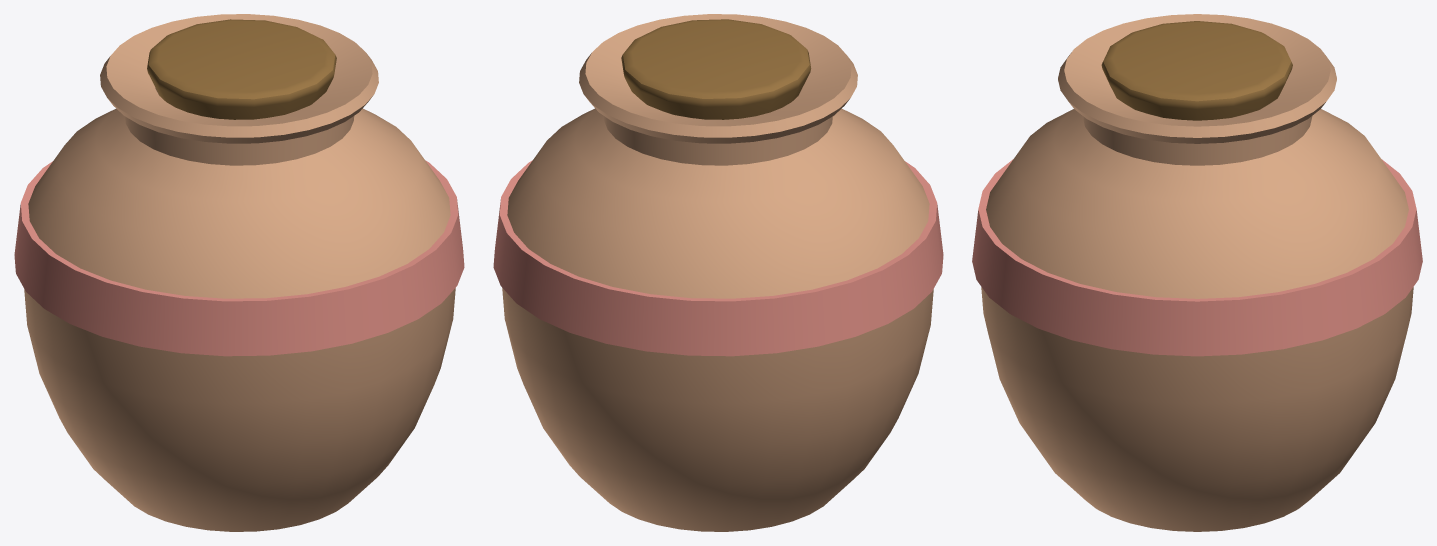
Rendered from Vaso.fbx.
3 views of the same model, side by side, from view 1: azimuth 30°, elevation 25°; view 2: azimuth 150°, elevation 25°; view 3: azimuth 270°, elevation 25° (orthographic).
Visible parts, largest first — view 1: 01Vaso.003, Cork; view 2: 01Vaso.003, Cork; view 3: 01Vaso.003, Cork.
Boxes of the visible parts, bbox=[...] form: 01Vaso.003: bbox=[14, 14, 464, 531]; Cork: bbox=[147, 19, 336, 119]; 01Vaso.003: bbox=[493, 14, 943, 531]; Cork: bbox=[621, 19, 811, 119]; 01Vaso.003: bbox=[972, 14, 1422, 531]; Cork: bbox=[1101, 21, 1292, 120].
Size of the model in its own units: 37.15 by 38.51 by 37.15.
